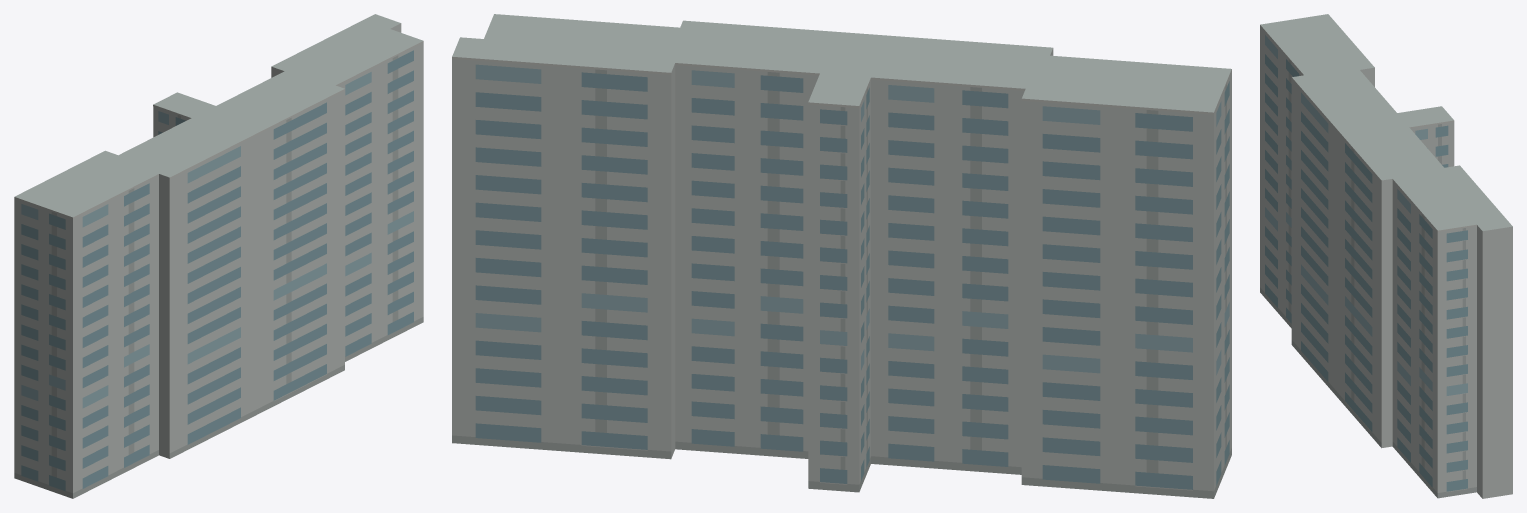
Rendered from residential-da57faba-fa50-444d-9e4a-09f1921811b1.glb.
3 renders of one model, left to right at view 1: azimuth 30°, elevation 25°; view 2: azimuth 150°, elevation 25°; view 3: azimuth 270°, elevation 25°, orthographic. The views are drawn at different scales.
Visible parts, largest first — view 1: residential-da57faba-fa50-444d-9e4a-09f1921811b1.tmp; view 2: residential-da57faba-fa50-444d-9e4a-09f1921811b1.tmp; view 3: residential-da57faba-fa50-444d-9e4a-09f1921811b1.tmp.
Part boxes in pixels (left/top/right/bottom): residential-da57faba-fa50-444d-9e4a-09f1921811b1.tmp: left=14, top=14, right=423, bottom=498; residential-da57faba-fa50-444d-9e4a-09f1921811b1.tmp: left=452, top=14, right=1231, bottom=498; residential-da57faba-fa50-444d-9e4a-09f1921811b1.tmp: left=1260, top=14, right=1512, bottom=498.
Size of the model in its own units: 74.32 by 42.7 by 36.57.
